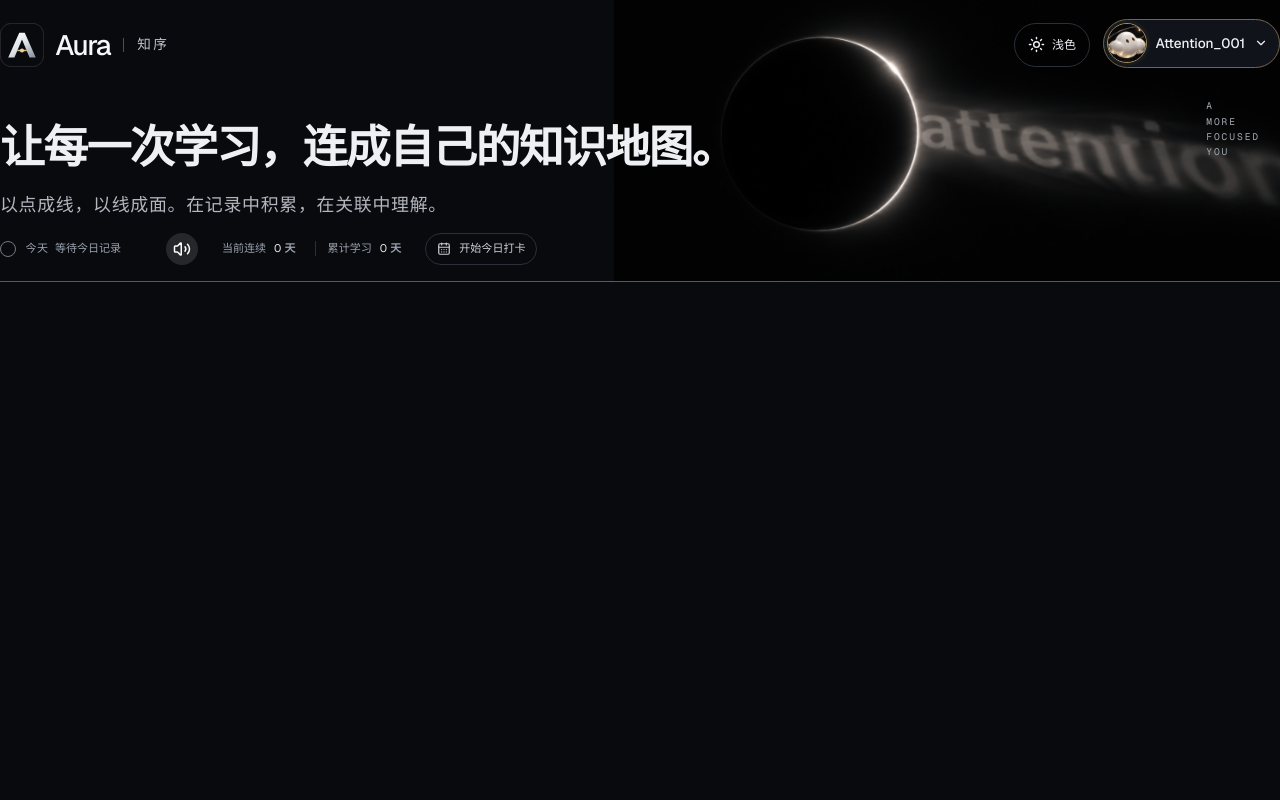
Test: profile header › shows the full read-only email and updates the display name without a password
The image size is (1280, 800).
Click the button with aria-label "打开账户菜单" at (1191,43), box [1103,19,1279,68]
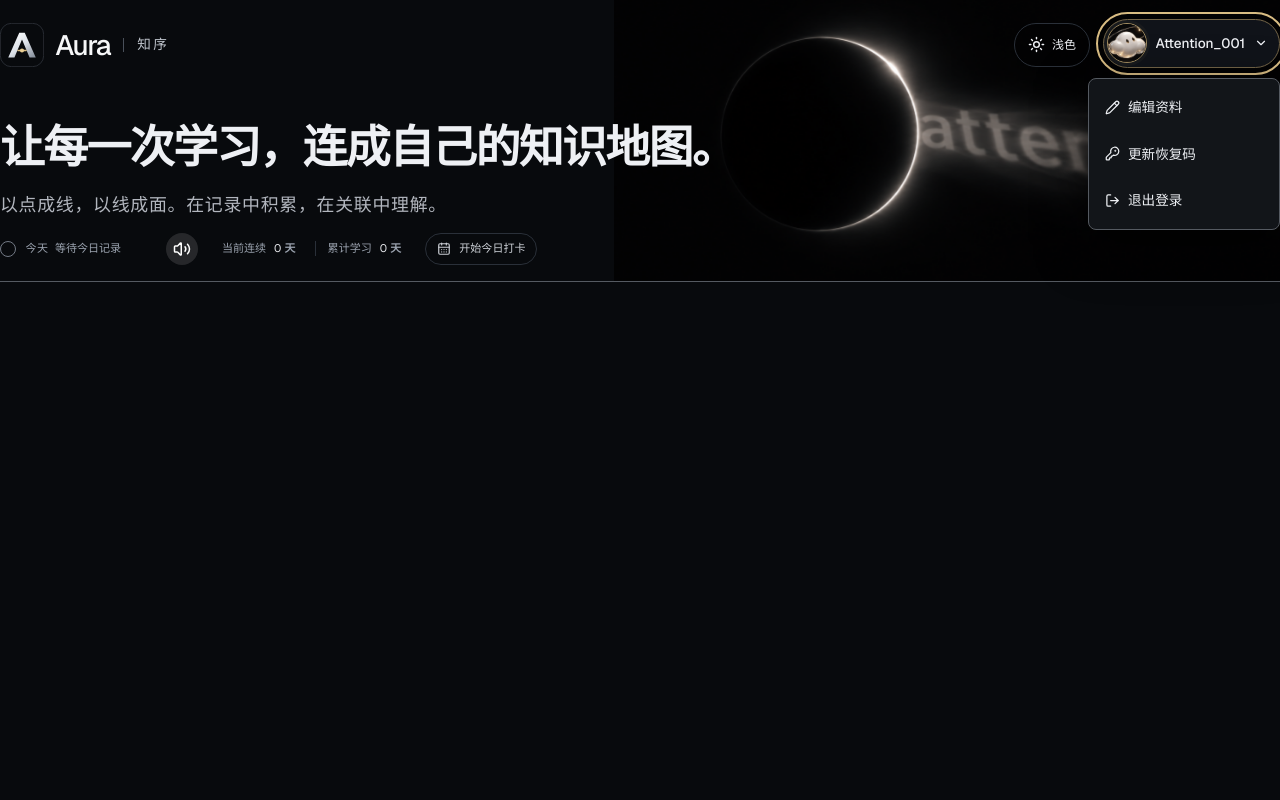
Click the menu item "编辑资料" at (1184,107), box [1096,86,1272,129]
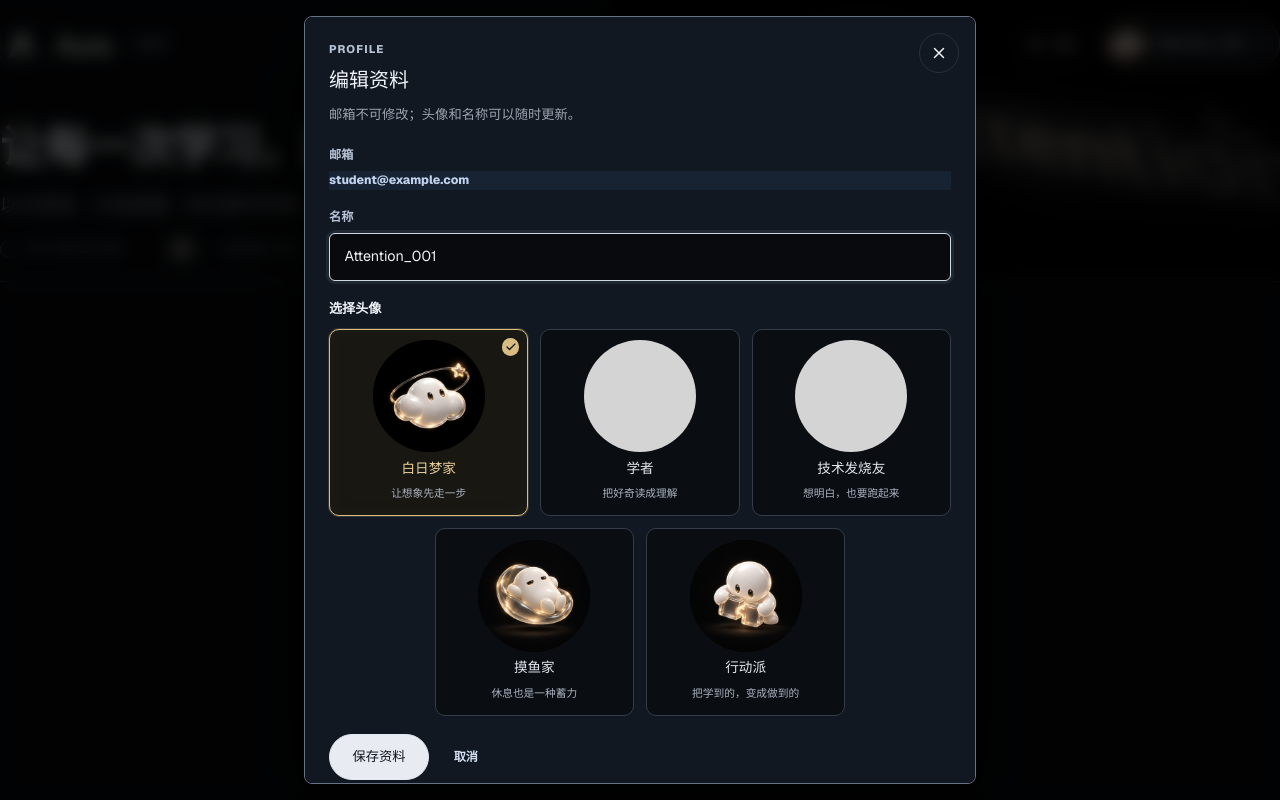
Now the text "student@example.com" is shown, box [329,171,951,190]
Now the text "邮箱不可修改；头像和名称可以随时更新。" is shown, box [329,106,581,123]
Now the field labelled "名称" holds "Attention_001"
Replace the text in the field labelled "名称" with "今天也学习" at (640,257), box [329,233,951,281]
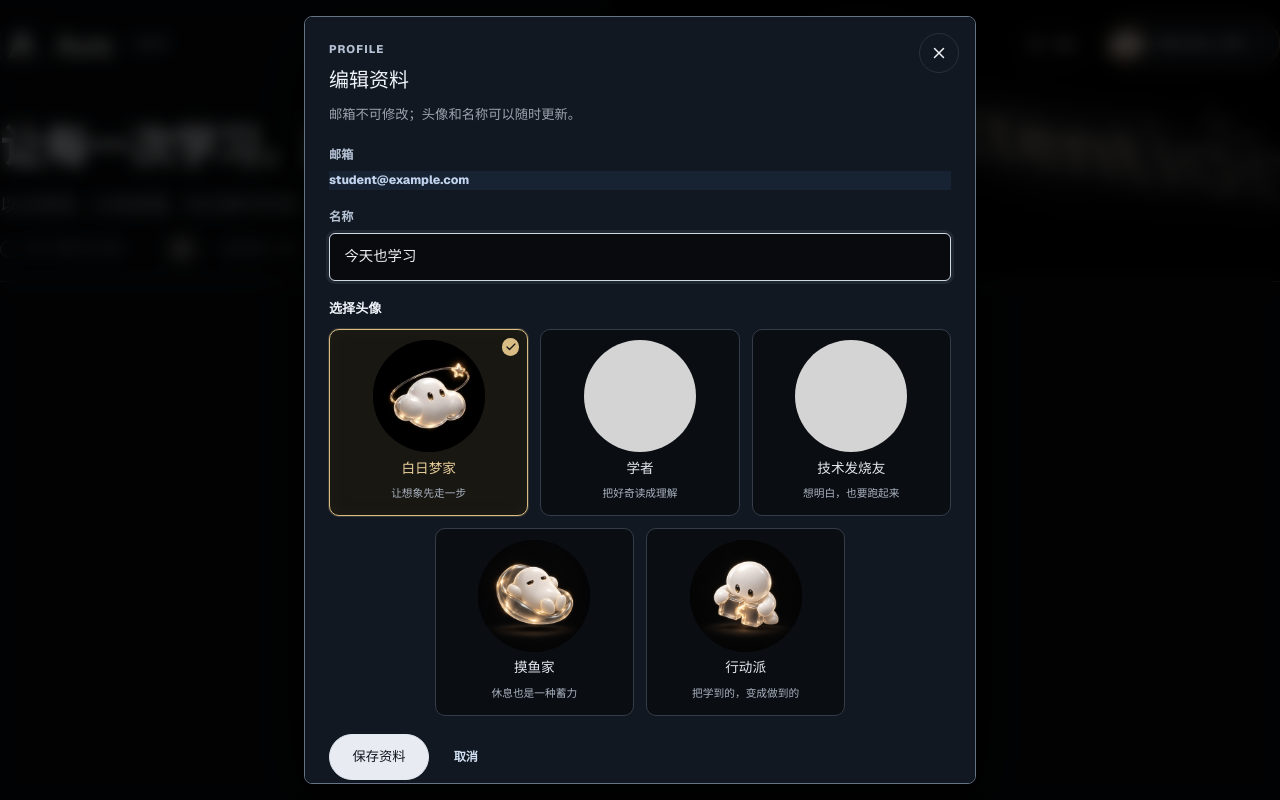
Click the button "保存资料" at (379,757), box [329,734,429,780]
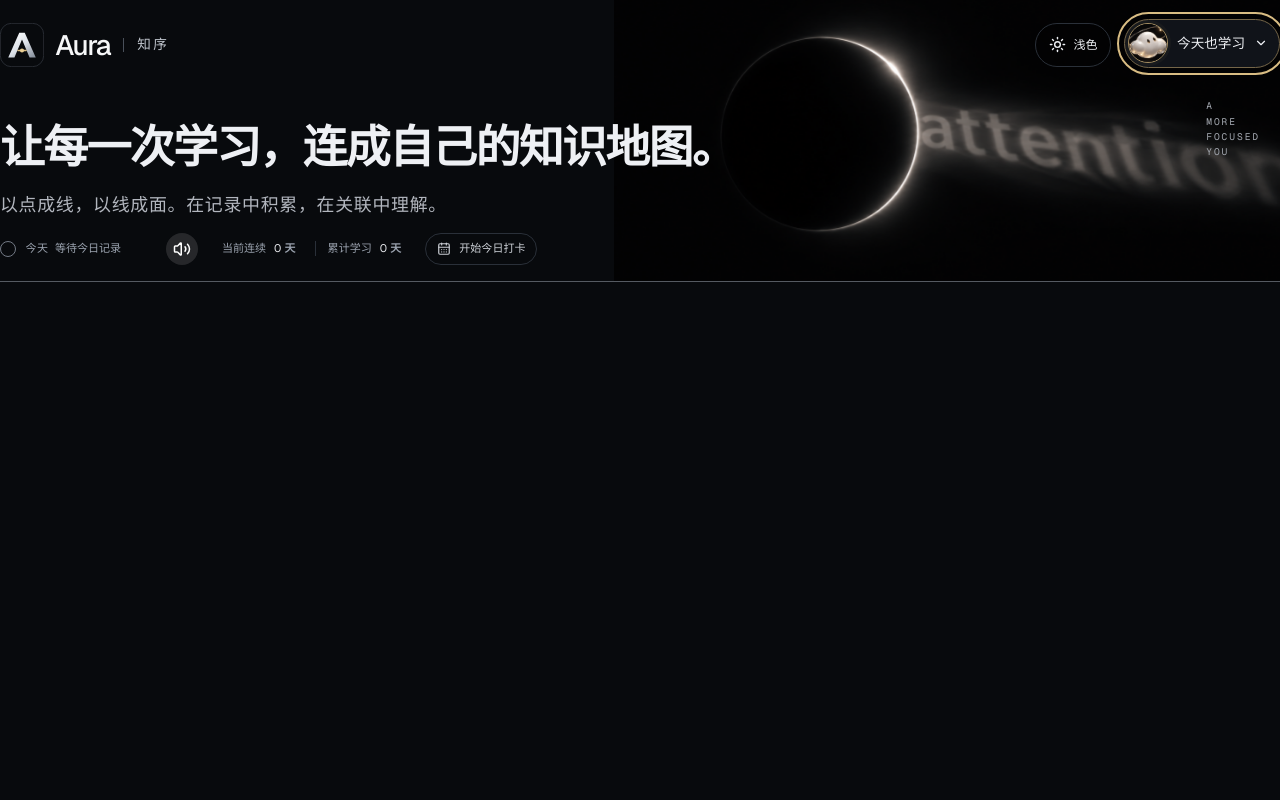
Now the heading "编辑资料" is gone
